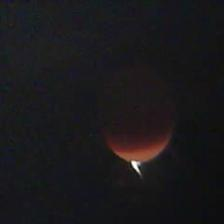fertile: (93, 64, 178, 166)
